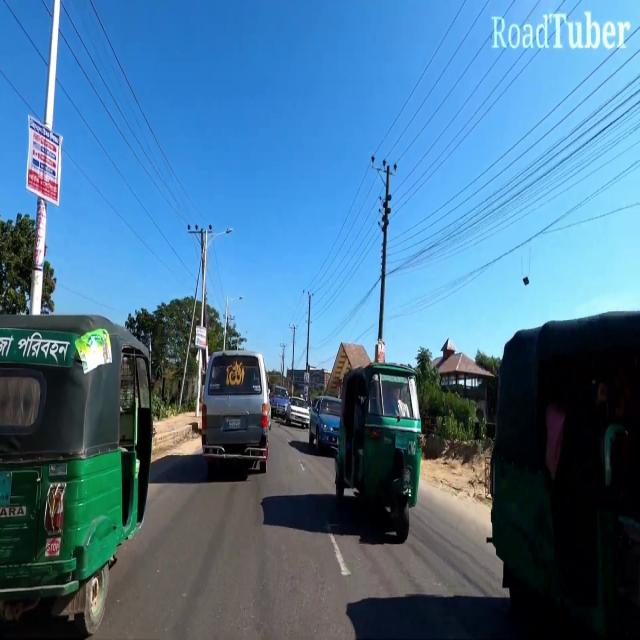blue: (310, 396, 338, 452), (272, 387, 286, 419)
silver: (202, 351, 267, 472)
white: (288, 396, 310, 426)
